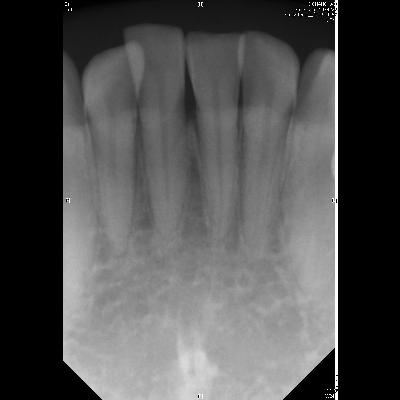tooth: (236, 29, 302, 262), (120, 21, 188, 243), (79, 39, 146, 259), (181, 30, 247, 242)
